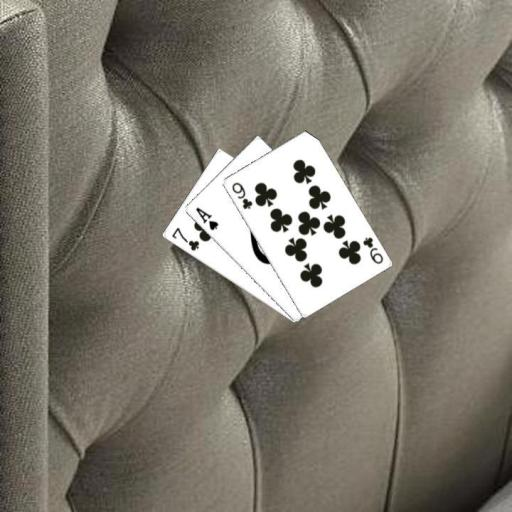7C: (169, 224, 201, 252)
9C: (228, 179, 254, 211), (359, 234, 385, 265)
AS: (192, 204, 220, 232)
